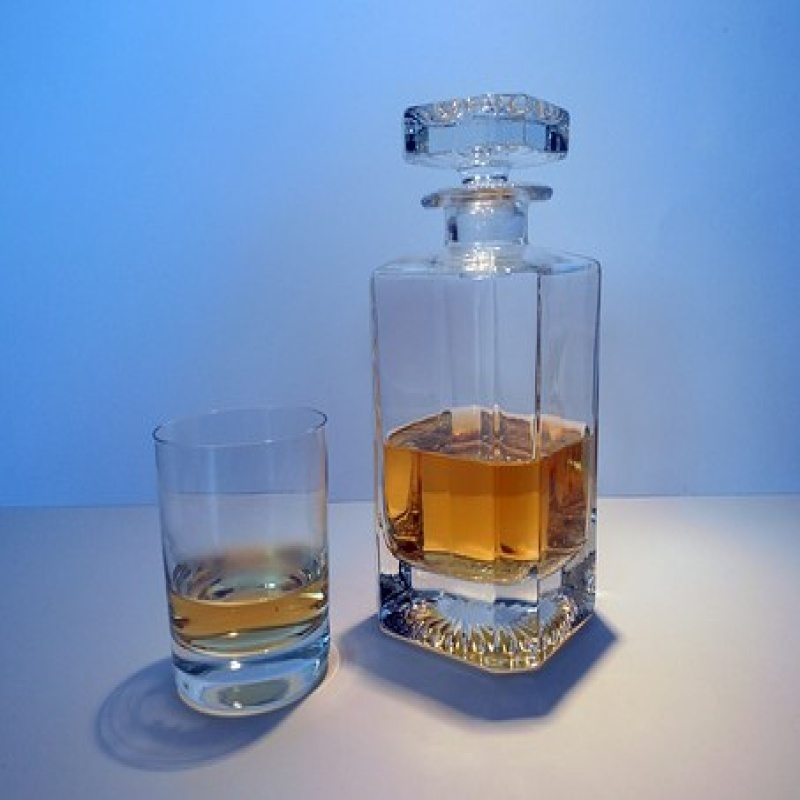whiskey: (145, 410, 339, 713)
